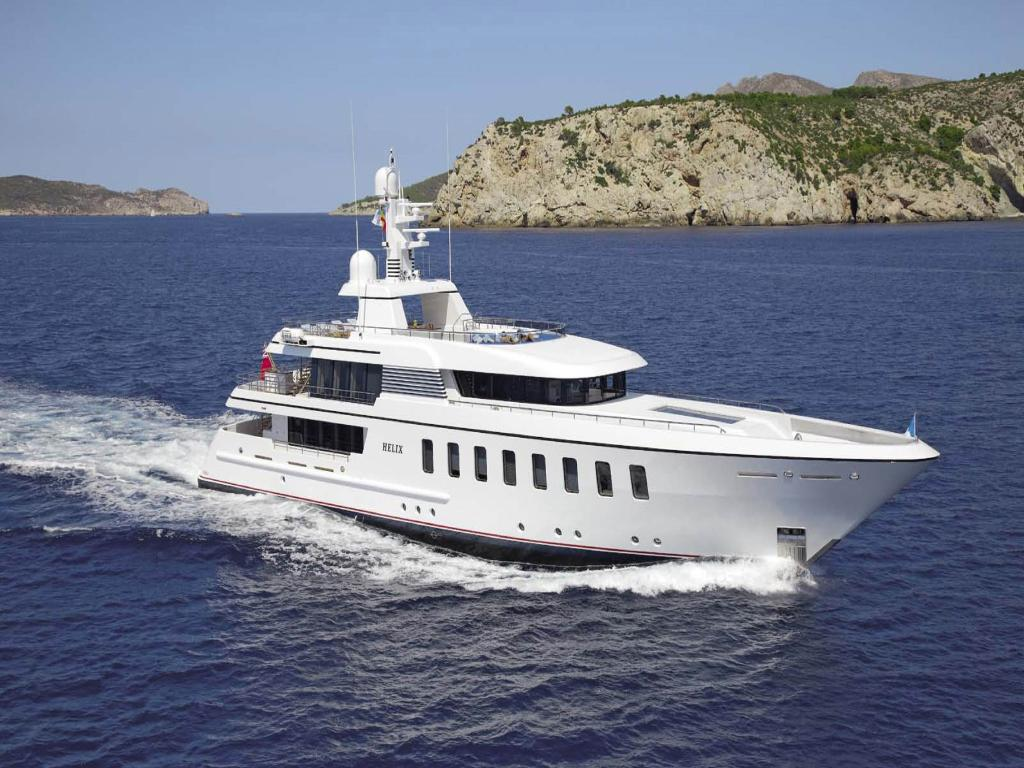PassengerShip: (200, 148, 940, 564)
